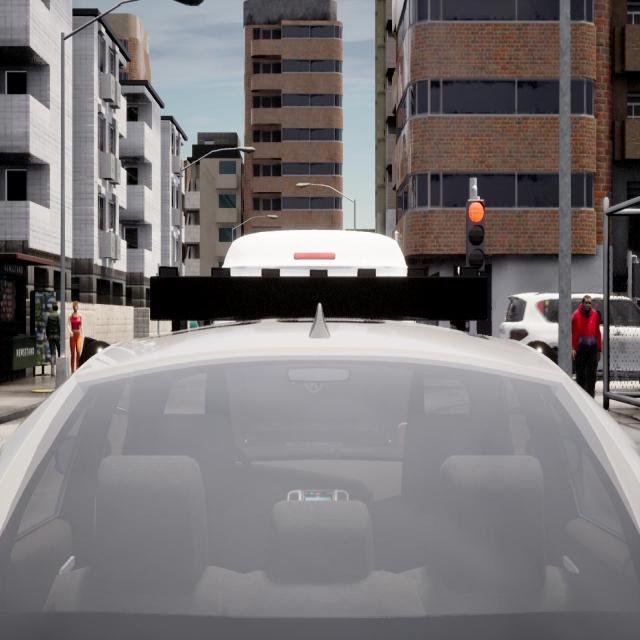Pedestrian: (572, 296, 600, 398), (45, 300, 62, 378), (67, 301, 83, 372)
Vehicle: (0, 319, 640, 637), (501, 293, 640, 392), (222, 231, 404, 280)
traffic_light: (466, 200, 485, 270), (631, 263, 640, 298)
